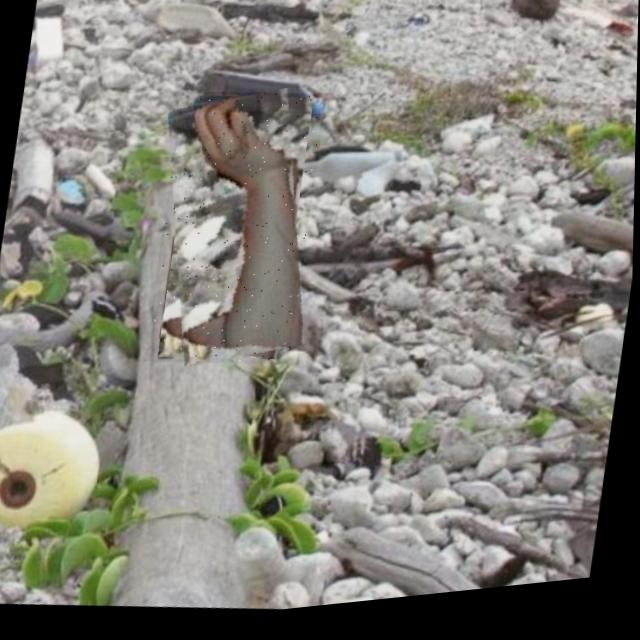Person in Rubble: (145, 83, 328, 383)
